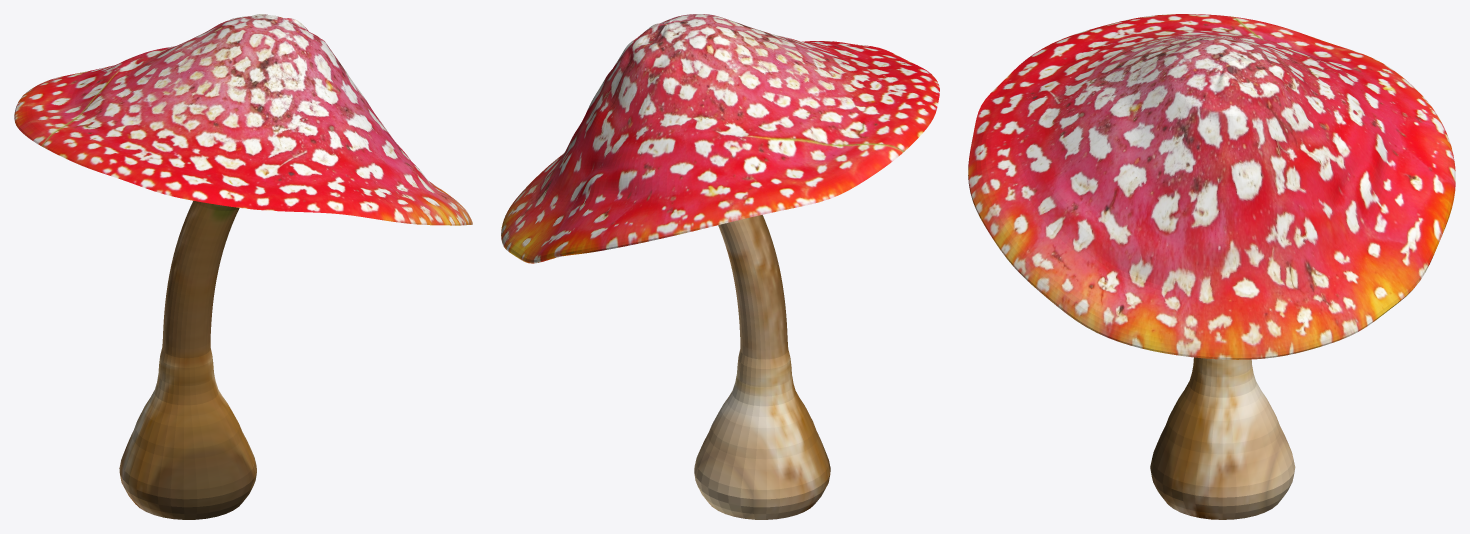
Rendered from Mushroom.fbx.
3 views of the same model, side by side, from view 1: azimuth 30°, elevation 25°; view 2: azimuth 150°, elevation 25°; view 3: azimuth 270°, elevation 25° (orthographic). The views are drawn at different scales.
Visible parts, largest first — view 1: Cylinder.001, Cylinder; view 2: Cylinder.001, Cylinder; view 3: Cylinder.001, Cylinder.
Part boxes in pixels (left/top/right/bottom): Cylinder.001: left=14, top=14, right=472, bottom=225; Cylinder: left=119, top=201, right=256, bottom=519; Cylinder.001: left=501, top=14, right=939, bottom=263; Cylinder: left=694, top=215, right=830, bottom=519; Cylinder.001: left=968, top=14, right=1455, bottom=359; Cylinder: left=1150, top=357, right=1295, bottom=519.
Bounding box in the file's own units: 35.96 × 40.9 × 37.48.
2 materials, 2 textured.
